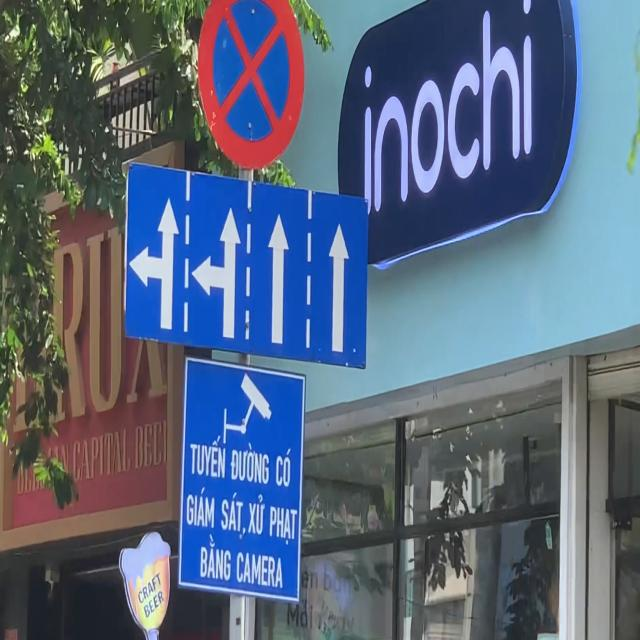Cam dung va do: (193, 0, 309, 173)
